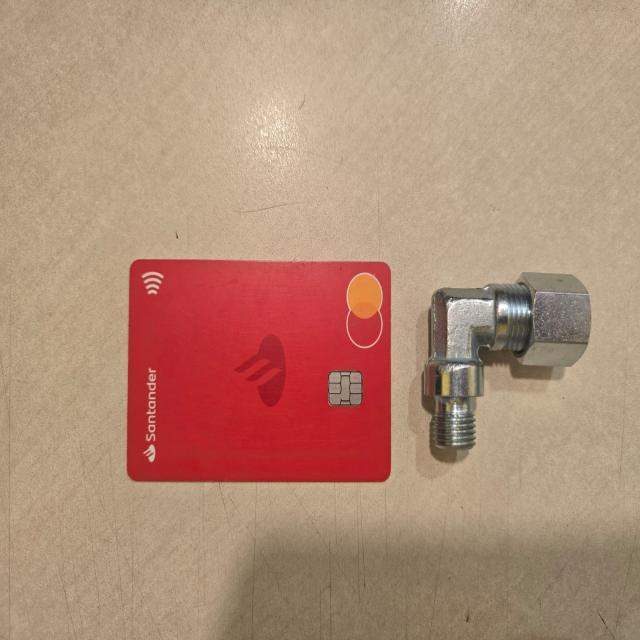cartao: (128, 260, 388, 482)
rosca_externa: (423, 271, 592, 449)
